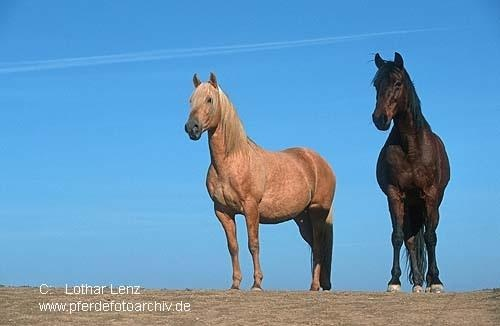horse: (186, 73, 337, 291), (373, 53, 452, 293)
